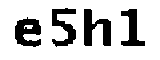1: (116, 6, 146, 51)
5: (48, 4, 79, 49)
e: (9, 16, 44, 53)
h: (80, 6, 113, 51)
